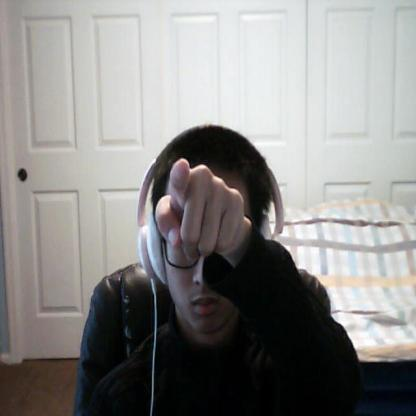finger_point: (164, 156, 198, 196)
